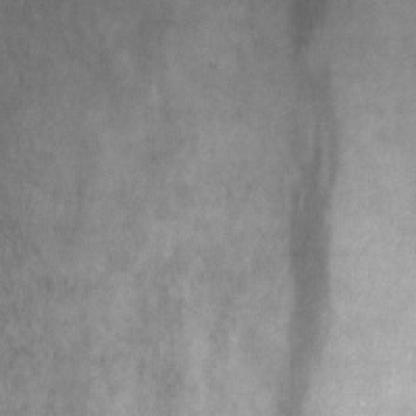inclusion: (272, 58, 337, 404)
